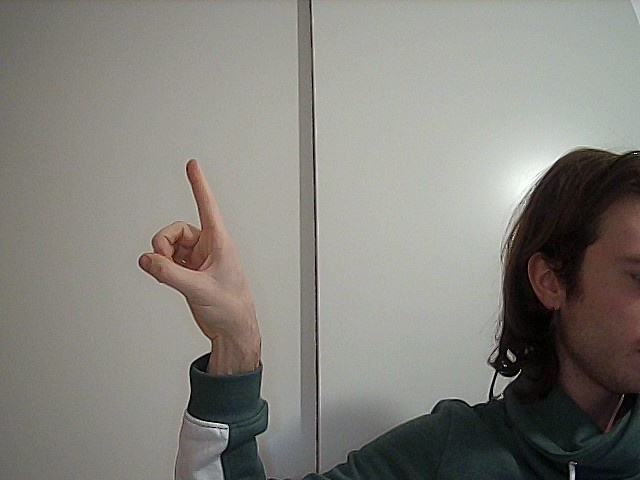d: (126, 155, 300, 370)
